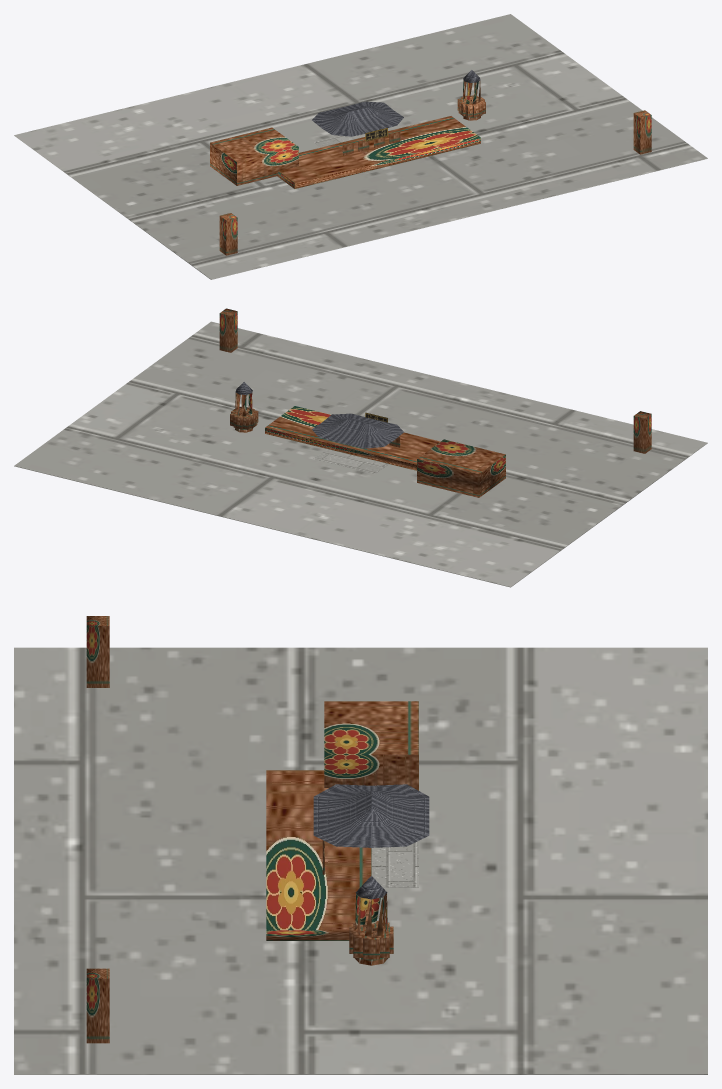
The picture shows the model from 3 angles, top to bottom: view 1: azimuth 30°, elevation 25°; view 2: azimuth 150°, elevation 25°; view 3: azimuth 270°, elevation 25°; orthographic projection. The views are drawn at different scales.
Visible parts, largest first — view 1: 11680_01_06305_028_01_L2__base, 11680_01_06305_028_02_L2__body, 11680_01_06305_028_03_L2__roof, 11680_01_06305_028_06_L2__green, 11680_01_06305_028_05_L2__openings; view 2: 11680_01_06305_028_01_L2__base, 11680_01_06305_028_02_L2__body, 11680_01_06305_028_03_L2__roof, 11680_01_06305_028_06_L2__green; view 3: 11680_01_06305_028_01_L2__base, 11680_01_06305_028_02_L2__body, 11680_01_06305_028_03_L2__roof, 11680_01_06305_028_06_L2__green.
Part boxes in pixels (x1=…): 11680_01_06305_028_01_L2__base: x1=14, y1=14, x2=707, y2=279; 11680_01_06305_028_02_L2__body: x1=210, y1=80, x2=485, y2=188; 11680_01_06305_028_03_L2__roof: x1=312, y1=70, x2=480, y2=136; 11680_01_06305_028_06_L2__green: x1=219, y1=110, x2=651, y2=255; 11680_01_06305_028_05_L2__openings: x1=342, y1=131, x2=400, y2=155; 11680_01_06305_028_01_L2__base: x1=14, y1=321, x2=707, y2=587; 11680_01_06305_028_02_L2__body: x1=230, y1=393, x2=505, y2=497; 11680_01_06305_028_03_L2__roof: x1=235, y1=382, x2=403, y2=448; 11680_01_06305_028_06_L2__green: x1=219, y1=308, x2=651, y2=453; 11680_01_06305_028_01_L2__base: x1=14, y1=647, x2=707, y2=1074; 11680_01_06305_028_02_L2__body: x1=266, y1=701, x2=418, y2=965; 11680_01_06305_028_03_L2__roof: x1=313, y1=784, x2=429, y2=899; 11680_01_06305_028_06_L2__green: x1=86, y1=616, x2=109, y2=1043.
Size of the model in its own units: 96 by 8.8 by 66.
5 materials, 5 textured.
